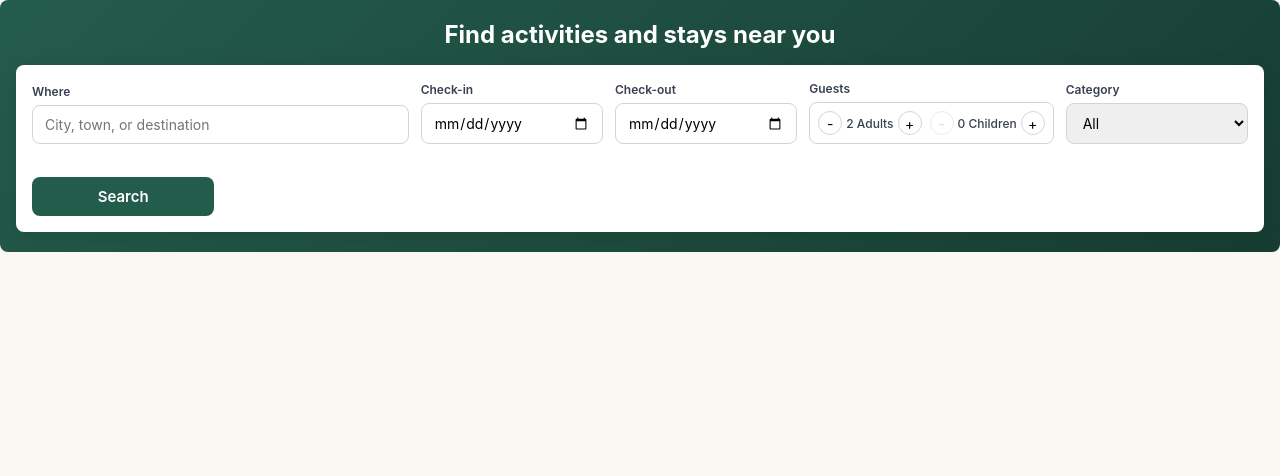
Test: SearchHero - Compact Layout › applies recent search parameters when clicked
This screenshot has width=1280, height=476.
Focus the field labelled "Where" at {"x": 220, "y": 124}, box 32,105 -> 409,144
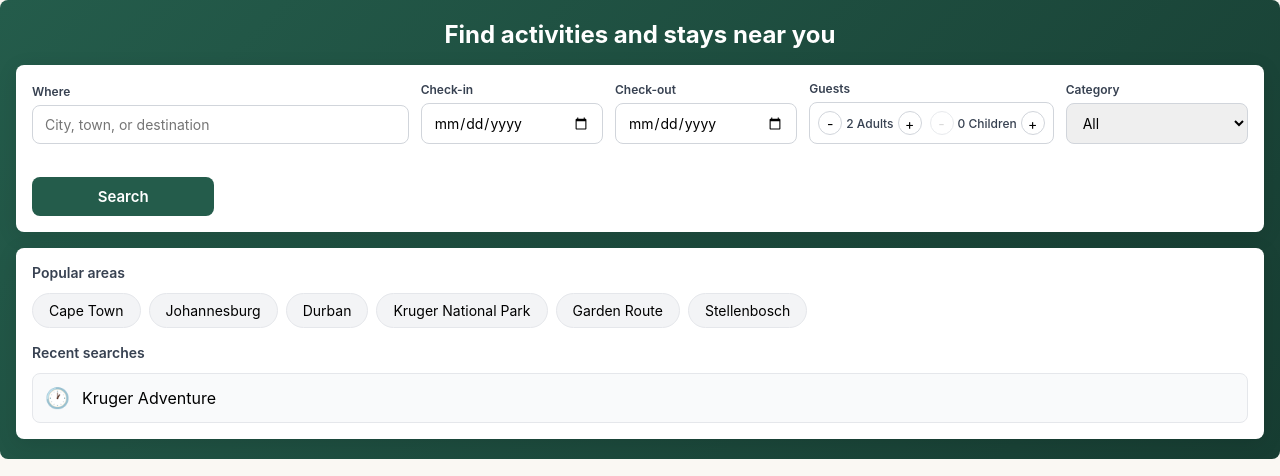
Click the text "Kruger Adventure" at {"x": 149, "y": 398}, box 82,388 -> 216,408
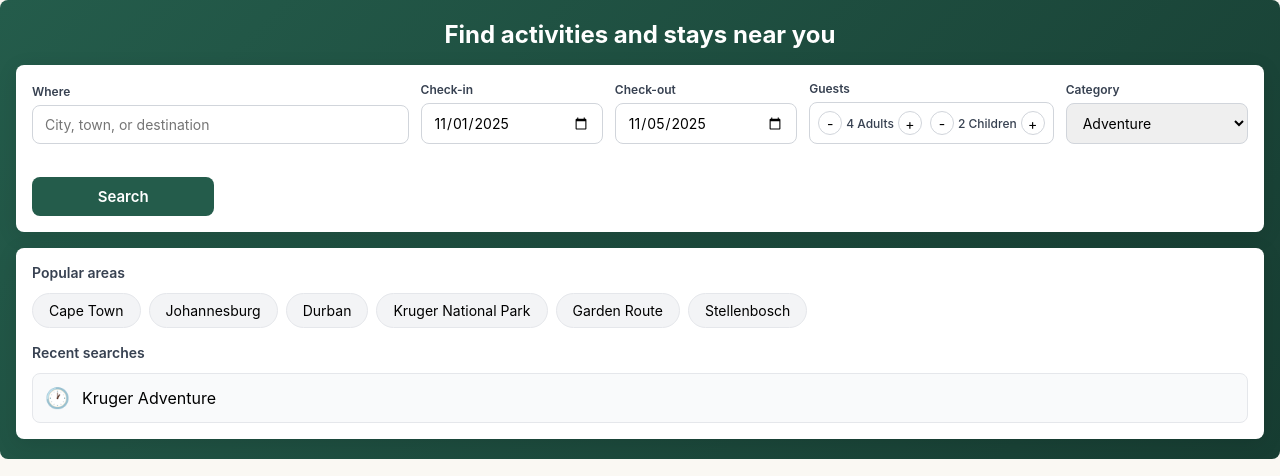
Expected: the dropdown labelled "Category" shows "Adventure", 1066,103 -> 1248,144
Expected: the text "4 Adults" is shown, 846,116 -> 894,130
Expected: the text "2 Children" is shown, 958,116 -> 1017,130
